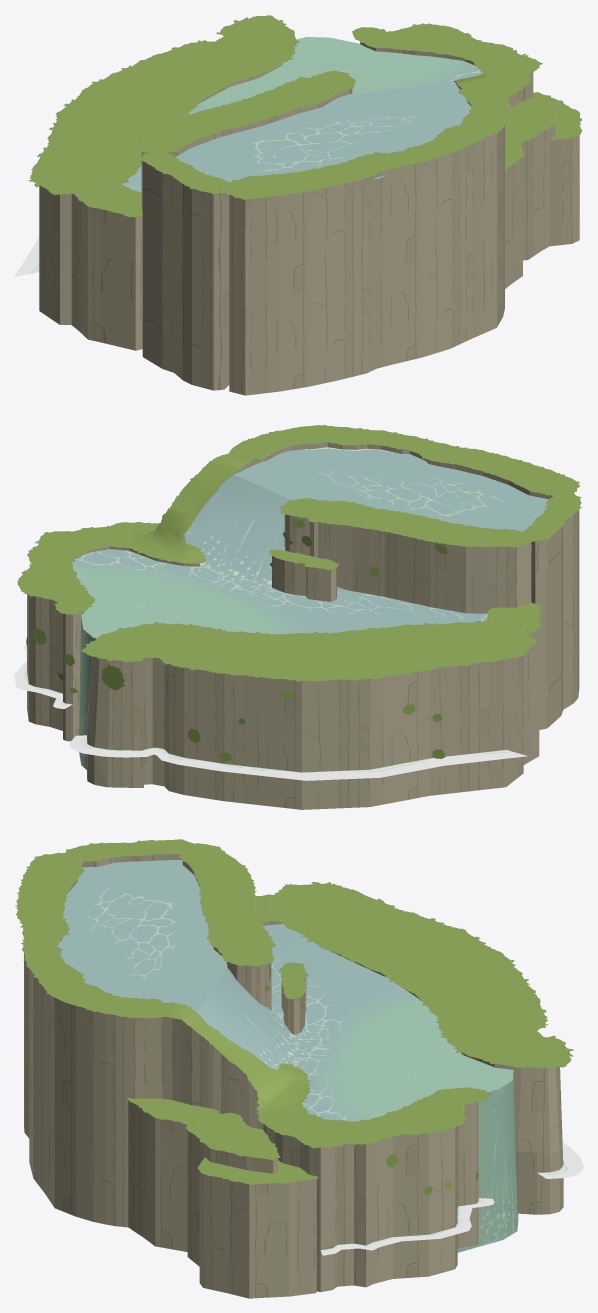
File: Mesh_Home_Terrain_Land_01.fbx
3 views of the same model, one above another, from view 1: azimuth 30°, elevation 25°; view 2: azimuth 150°, elevation 25°; view 3: azimuth 270°, elevation 25° (orthographic). The views are drawn at different scales.
Visible parts, largest first — view 1: Mesh_Home_Terrain_Rock_01, Mesh_Home_Terrain_Ground_01, Mesh_Home_Terrain_Fall_01, Mesh_Home_Terrain_Sand; view 2: Mesh_Home_Terrain_Rock_01, Mesh_Home_Terrain_Ground_01, Mesh_Home_Terrain_Fall_01, Mesh_Home_Terrain_Sand; view 3: Mesh_Home_Terrain_Rock_01, Mesh_Home_Terrain_Ground_01, Mesh_Home_Terrain_Fall_01, Mesh_Home_Terrain_Sand.
Part boxes in pixels (left/top/right/bottom): Mesh_Home_Terrain_Rock_01: left=39, top=41, right=579, bottom=395; Mesh_Home_Terrain_Ground_01: left=28, top=15, right=581, bottom=217; Mesh_Home_Terrain_Fall_01: left=122, top=37, right=481, bottom=192; Mesh_Home_Terrain_Sand: left=14, top=233, right=39, bottom=276; Mesh_Home_Terrain_Rock_01: left=27, top=442, right=579, bottom=809; Mesh_Home_Terrain_Ground_01: left=17, top=425, right=581, bottom=761; Mesh_Home_Terrain_Fall_01: left=72, top=448, right=548, bottom=769; Mesh_Home_Terrain_Sand: left=14, top=447, right=527, bottom=780; Mesh_Home_Terrain_Rock_01: left=24, top=854, right=563, bottom=1298; Mesh_Home_Terrain_Ground_01: left=15, top=839, right=573, bottom=1197; Mesh_Home_Terrain_Fall_01: left=57, top=860, right=518, bottom=1252; Mesh_Home_Terrain_Sand: left=320, top=1142, right=583, bottom=1255.
Bounding box in the file's own units: 1472 × 558 × 1282.
